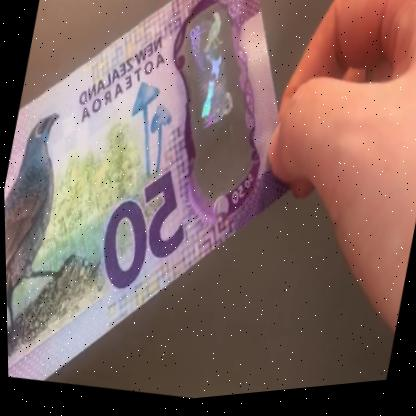50B: (159, 5, 266, 188)
